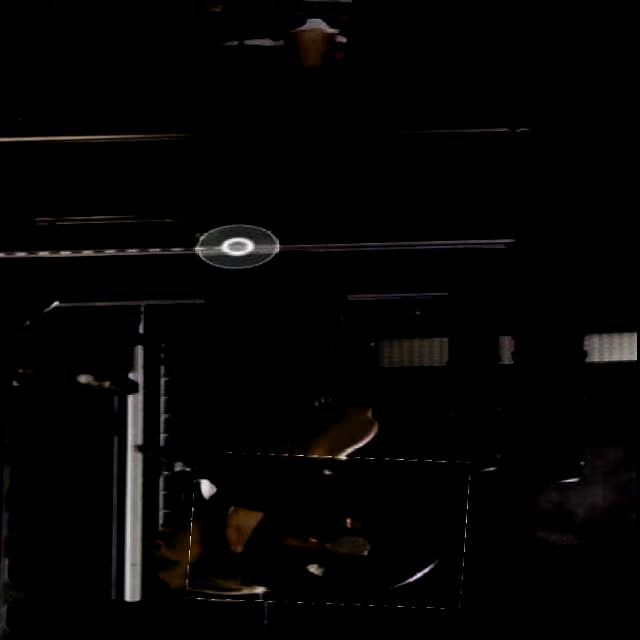barbell: (191, 452, 470, 614)
